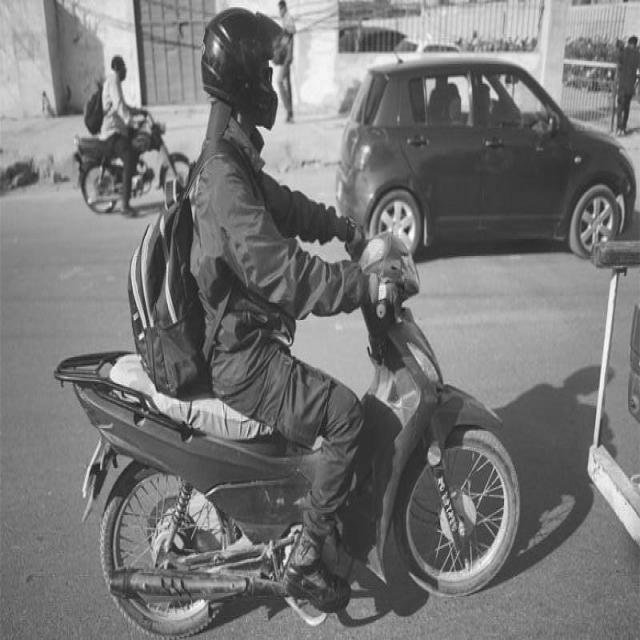Hatchback: (335, 53, 640, 266)
Motorbike: (50, 8, 522, 640), (74, 57, 191, 215)
